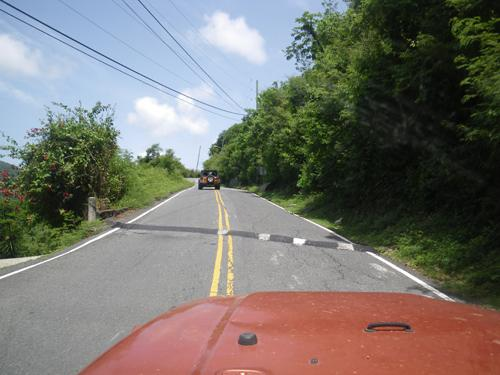Bump: (120, 222, 365, 253)
